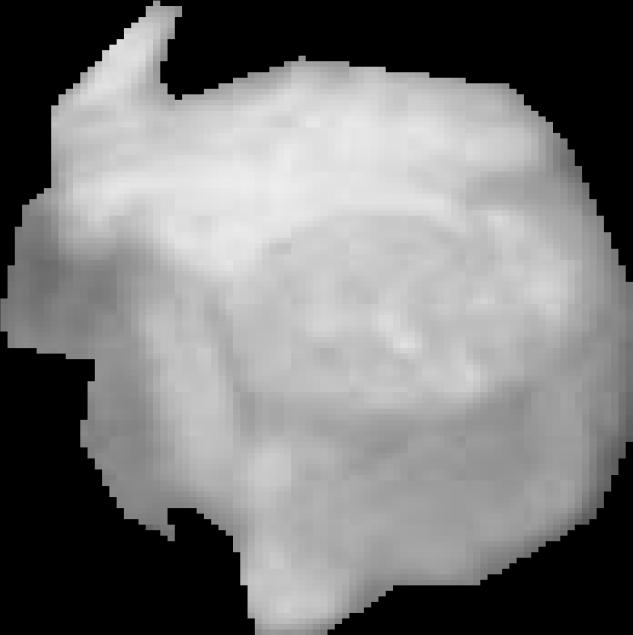tumor_moderate_chance: (0, 1, 633, 635)
